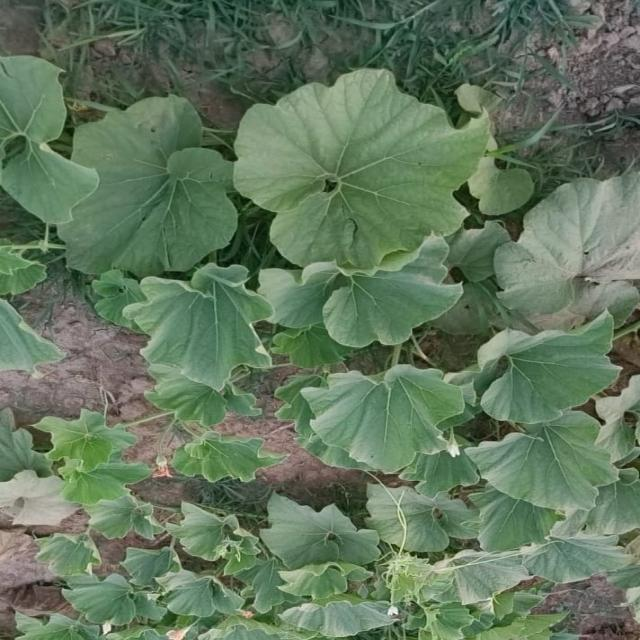plant: (0, 56, 638, 639)
